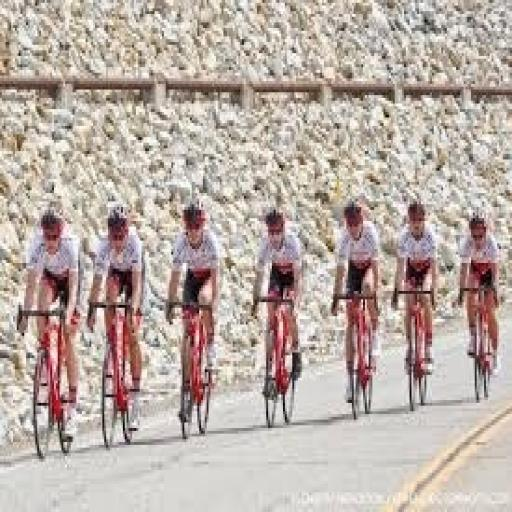cycling: (15, 204, 86, 450), (84, 199, 149, 439), (162, 196, 225, 434), (328, 196, 385, 414), (454, 207, 505, 383)
